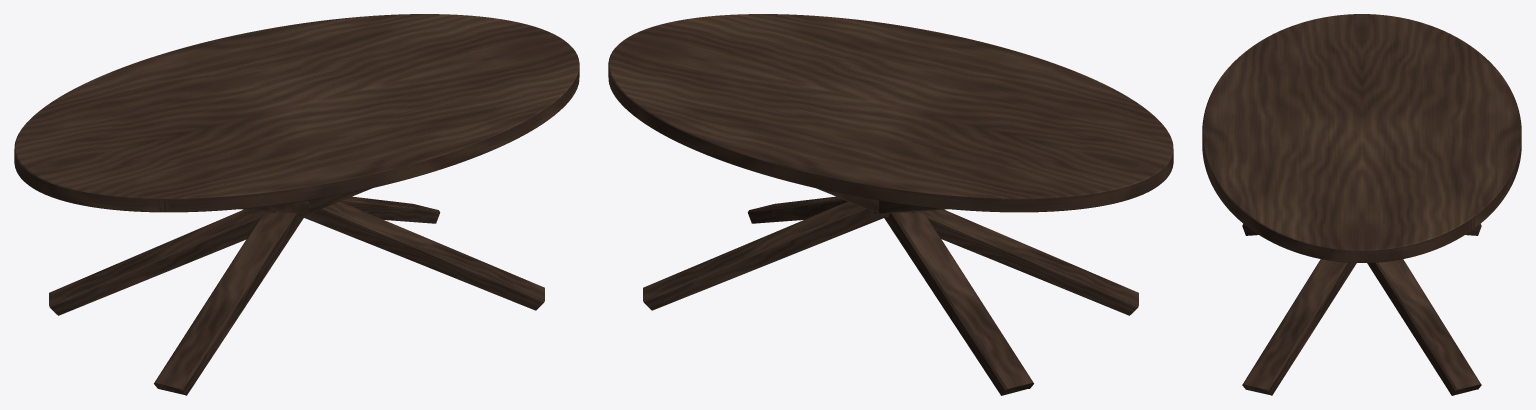
The model's file is ellipse-walnut.glb.
3 renders of one model, left to right at view 1: azimuth 30°, elevation 25°; view 2: azimuth 150°, elevation 25°; view 3: azimuth 270°, elevation 25°, orthographic. The views are drawn at different scales.
Visible parts, largest first — view 1: Wood_Ellipse, Base_Ellipse; view 2: Wood_Ellipse, Base_Ellipse; view 3: Wood_Ellipse, Base_Ellipse.
Boxes of the visible parts, box(x1,y1,x2,y2) form: Wood_Ellipse: box(14, 14, 579, 212); Base_Ellipse: box(49, 188, 544, 395); Wood_Ellipse: box(608, 14, 1173, 212); Base_Ellipse: box(643, 188, 1138, 395); Wood_Ellipse: box(1202, 14, 1521, 262); Base_Ellipse: box(1242, 224, 1481, 395).
Bounding box in the file's own units: 2.13 × 0.762 × 1.22.
2 materials, 2 textured.
